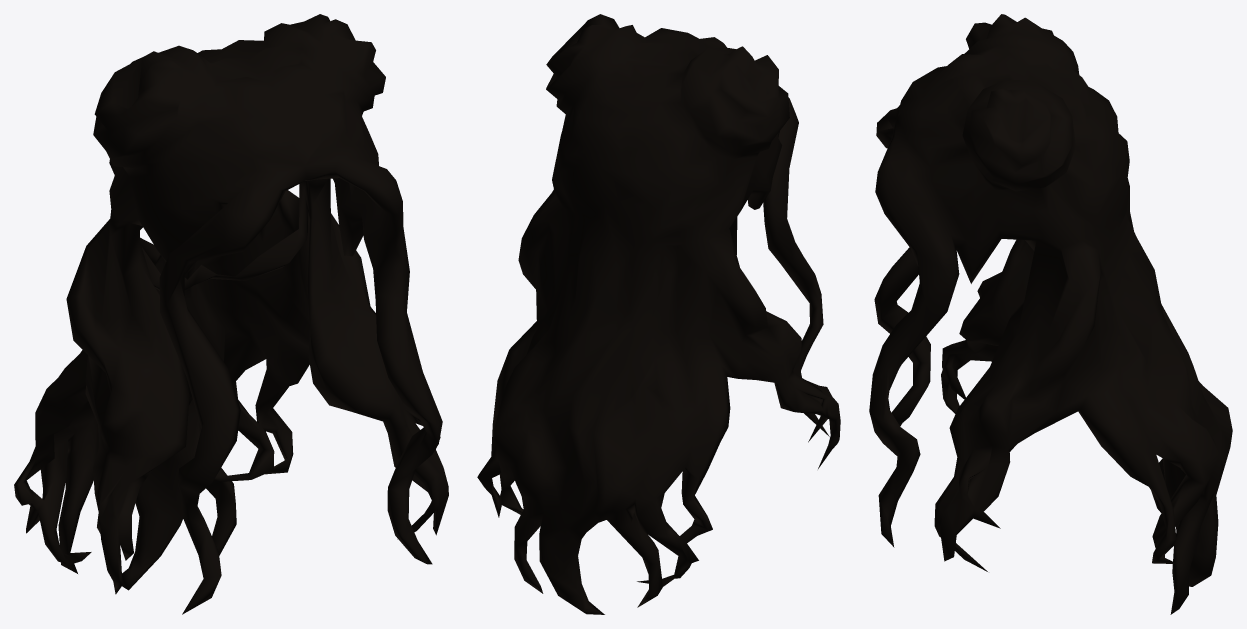
The model's file is femalehair3.glb.
3 views of the same model, side by side, from view 1: azimuth 30°, elevation 25°; view 2: azimuth 150°, elevation 25°; view 3: azimuth 270°, elevation 25° (orthographic). The views are drawn at different scales.
Visible parts, largest first — view 1: Wolf3D_Hair; view 2: Wolf3D_Hair; view 3: Wolf3D_Hair.
Part boxes in pixels (bbox=[...]): Wolf3D_Hair: bbox=[14, 14, 448, 614]; Wolf3D_Hair: bbox=[477, 14, 840, 614]; Wolf3D_Hair: bbox=[869, 14, 1232, 614].
Size of the model in its own units: 0.2837 by 0.4868 by 0.2955.
1 material, 1 textured.
